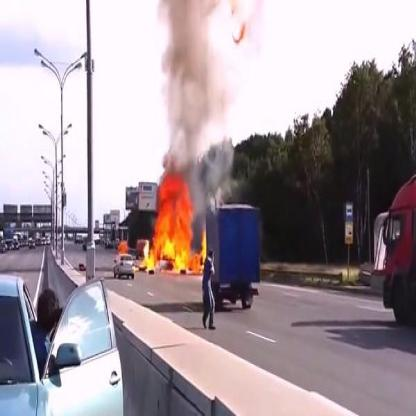fire: (143, 163, 208, 275)
